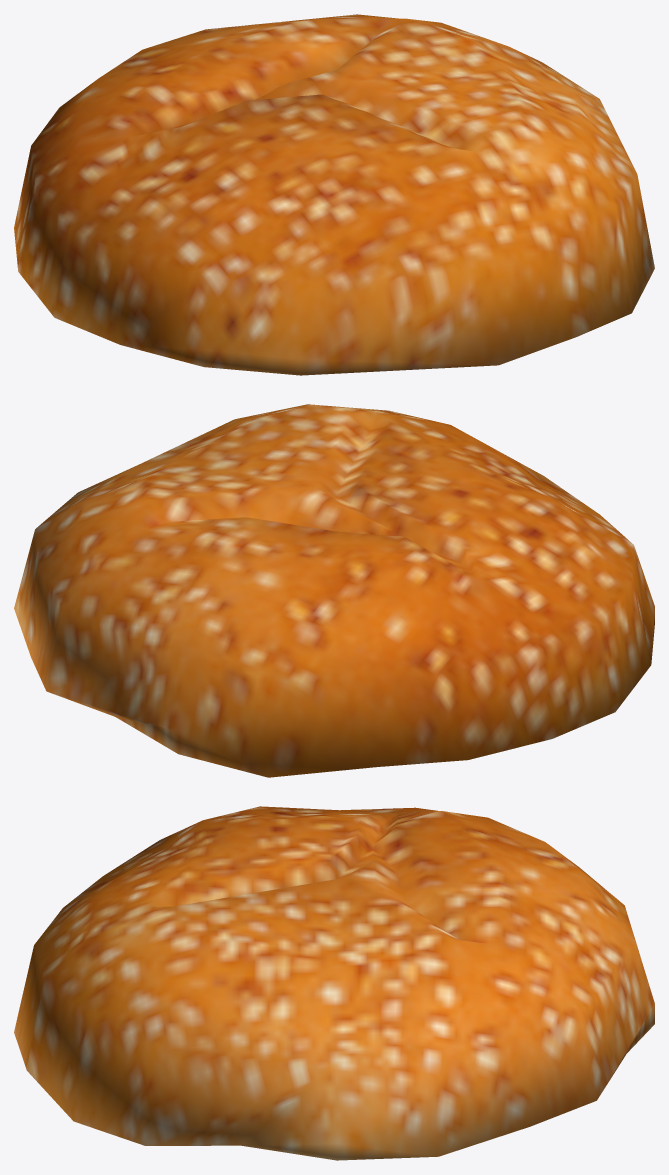
Rendered from burger_bun_01.FBX.
3 views of the same model, one above another, from view 1: azimuth 30°, elevation 25°; view 2: azimuth 150°, elevation 25°; view 3: azimuth 270°, elevation 25° (orthographic).
Visible parts, largest first — view 1: burger_bun_01_LOD00; view 2: burger_bun_01_LOD00; view 3: burger_bun_01_LOD00.
Part boxes in pixels (x1,y1,x2,y2): burger_bun_01_LOD00: (14, 14, 654, 375); burger_bun_01_LOD00: (14, 404, 654, 777); burger_bun_01_LOD00: (14, 806, 654, 1160).
Size of what is drawn, in the model's own units: 13.85 by 4.17 by 13.75.
